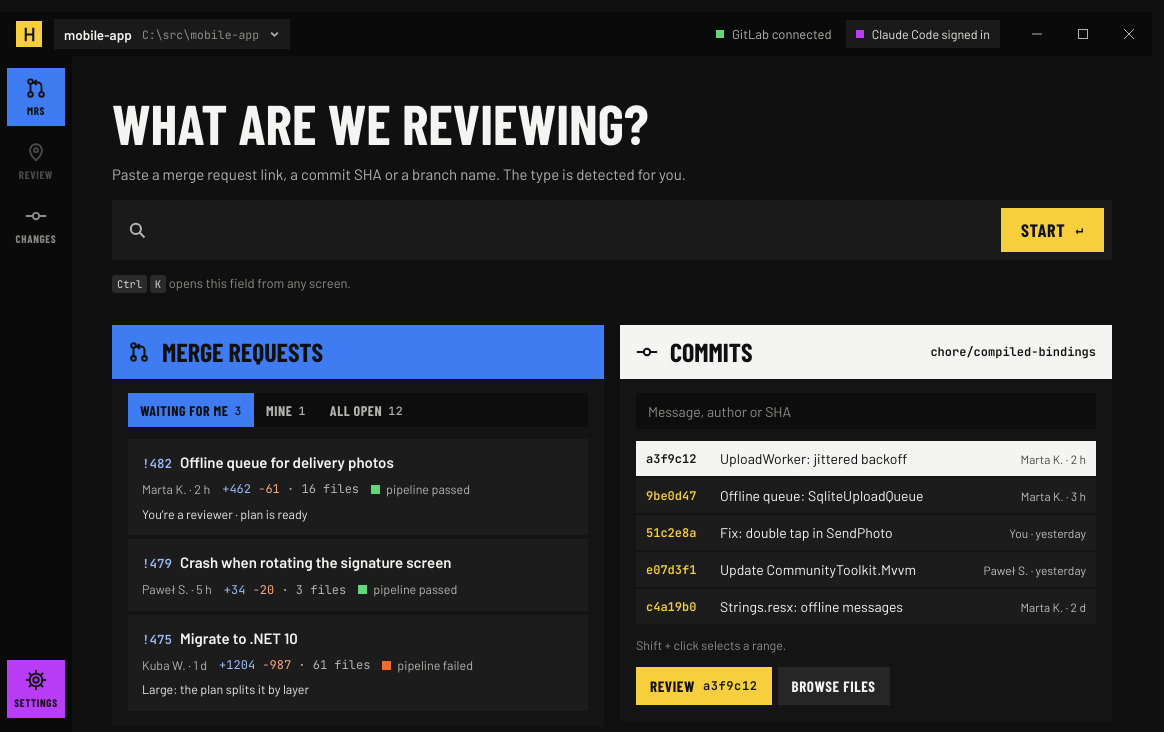
Scenario: S-01 Commits › F-03.1 the search filters by message, author or SHA
This screenshot has width=1164, height=732.
Type "offline" into the field named "Search commits".
click(866, 411); type("offline")  # box [636,393,1096,429]
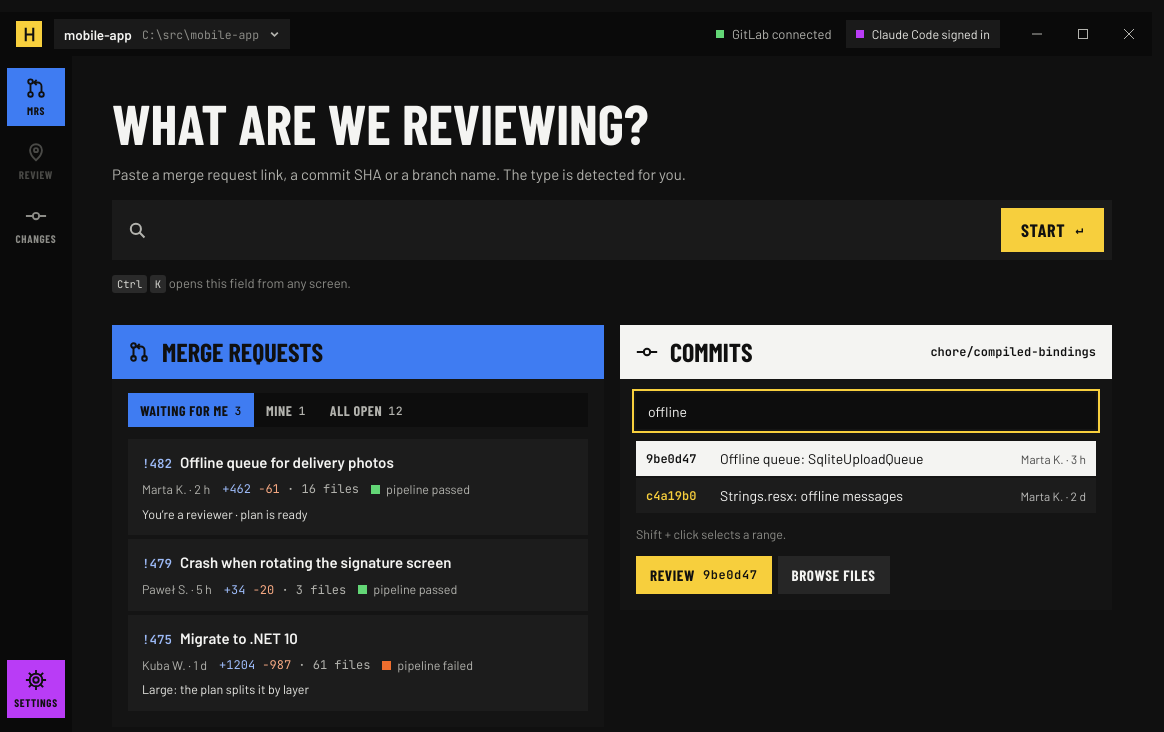
Result: the number of options is 2 at [636,441,1096,476]; [636,478,1096,513]
Replace the text in the field named "Search commits" with "Paweł" at (866, 411), box [636,393,1096,429]
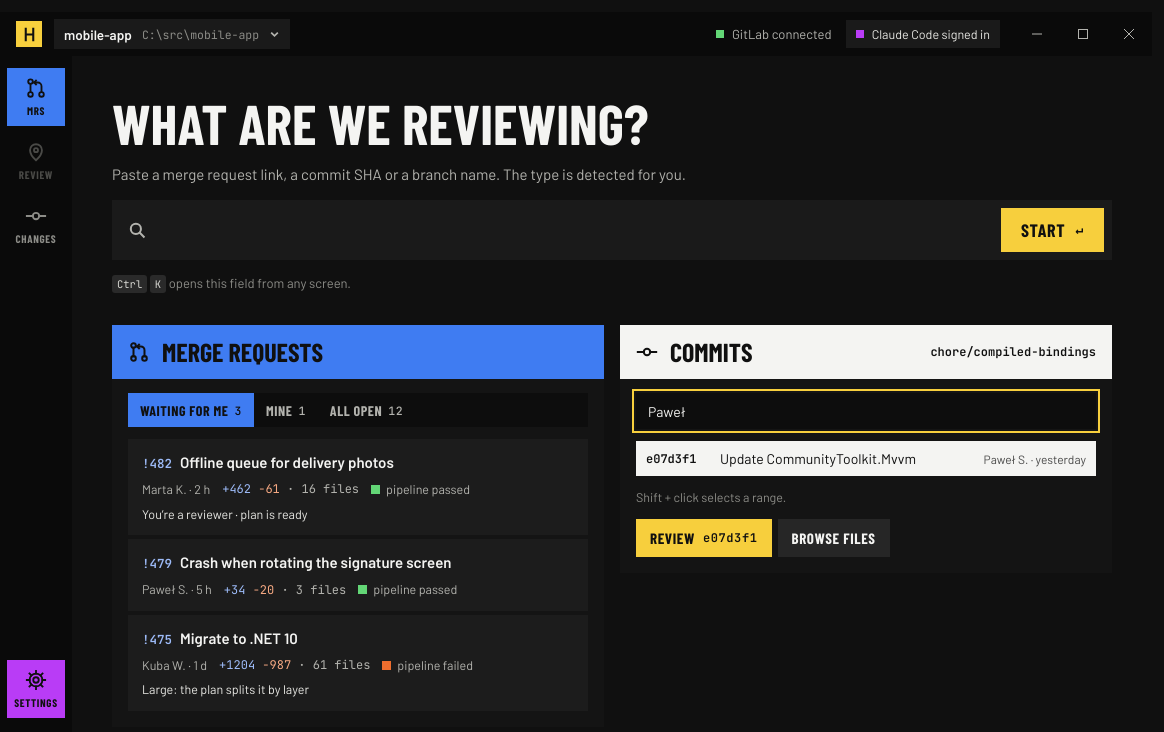
Result: the number of options is 1 at [636,441,1096,476]
Replace the text in the field named "Search commits" with "51c2e8a" at (866, 411), box [636,393,1096,429]
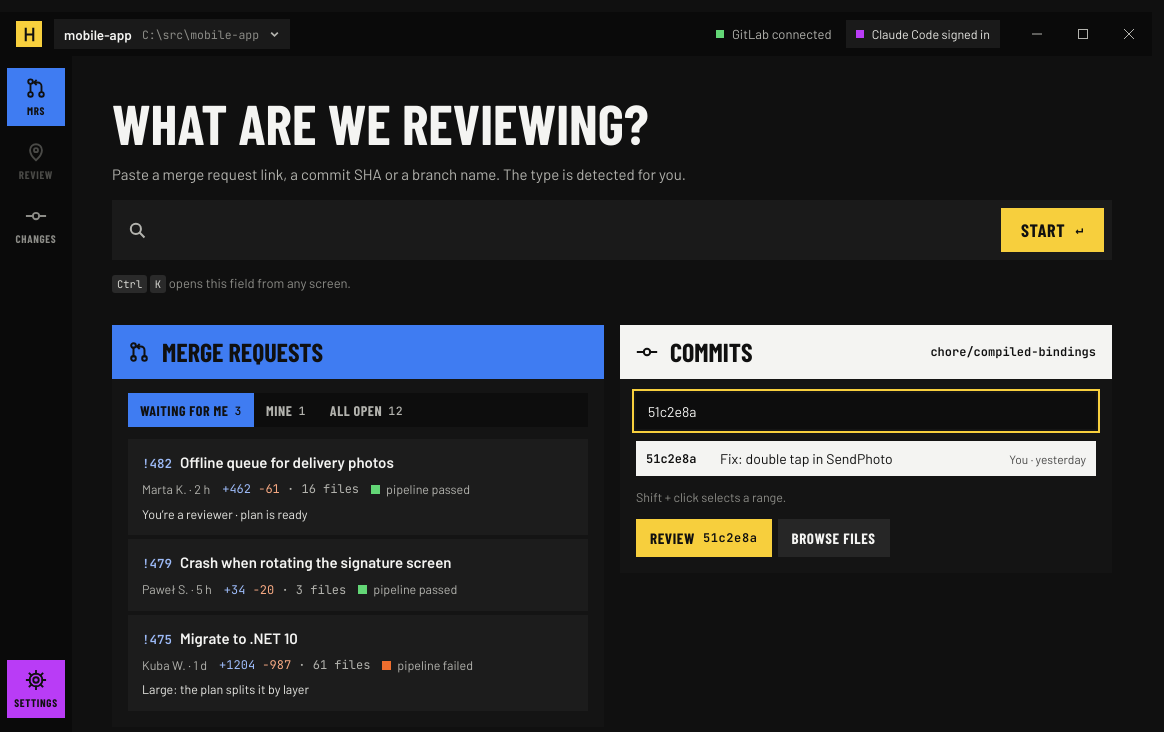
Result: the option shows "Fix: double tap in SendPhoto" at [636,441,1096,476]
